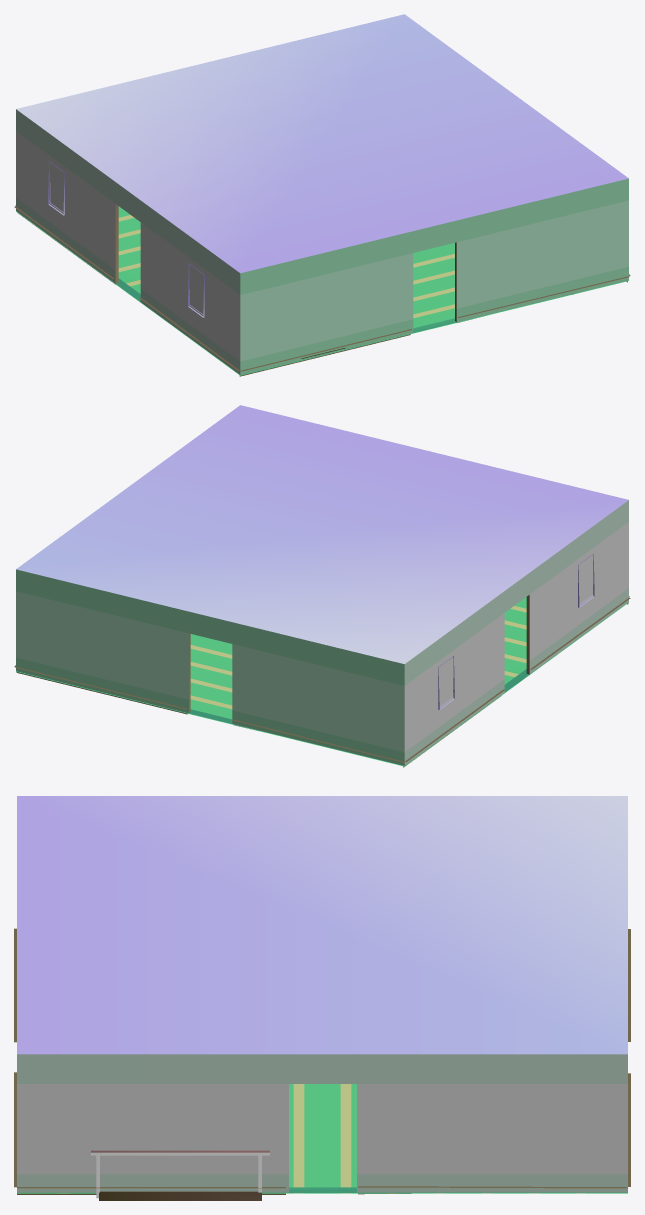
Rendered from office.fbx.
3 views of the same model, one above another, from view 1: azimuth 30°, elevation 25°; view 2: azimuth 150°, elevation 25°; view 3: azimuth 270°, elevation 25° (orthographic). The views are drawn at different scales.
Visible parts, largest first — view 1: roof.004; view 2: roof.004; view 3: roof.004.
Part boxes in pixels (x1,y1,x2,y2): roof.004: (14, 14, 630, 376); roof.004: (14, 405, 630, 767); roof.004: (14, 796, 630, 1200).
Bounding box in the file's own units: 12.49 × 3.1 × 12.12.
